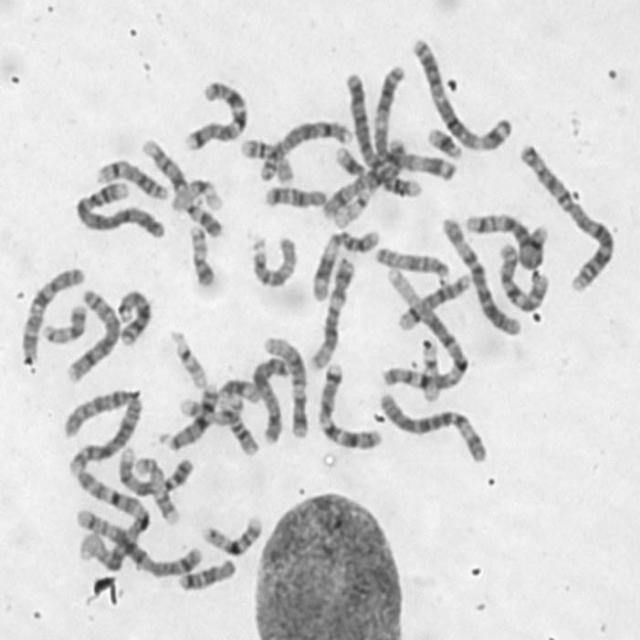A1: (380, 264, 471, 394), (70, 463, 154, 572)
A2: (516, 138, 618, 292), (59, 382, 144, 477)
A3: (407, 30, 516, 152), (368, 60, 466, 179)
B4: (332, 72, 426, 200), (71, 177, 167, 240)
B5: (74, 504, 204, 580), (462, 207, 549, 270)
C10: (16, 261, 86, 364), (493, 237, 552, 313)
C11: (306, 223, 382, 302), (214, 375, 263, 457)
C12: (306, 252, 358, 371), (260, 332, 312, 441)
C6: (439, 212, 523, 338), (374, 386, 492, 465)
C7: (314, 357, 384, 451), (180, 75, 250, 152)
C8: (253, 112, 354, 184), (63, 284, 121, 384)
C9: (136, 133, 225, 239), (115, 442, 196, 498)
D13: (157, 377, 220, 452), (114, 283, 154, 348)
D14: (393, 268, 473, 332), (92, 154, 172, 200)
D15: (372, 240, 452, 283), (246, 230, 298, 289)
E16: (197, 509, 266, 557), (236, 134, 296, 184)
E17: (130, 449, 182, 526), (175, 393, 248, 425)
E18: (174, 553, 238, 593), (262, 180, 331, 210)
F19: (332, 183, 382, 225), (169, 174, 224, 212)
F20: (184, 220, 218, 288), (40, 298, 90, 344)
G21: (422, 120, 464, 160), (331, 141, 369, 180)
G22: (166, 324, 211, 390), (416, 333, 442, 403)
X: (318, 133, 407, 221), (248, 352, 292, 446)
